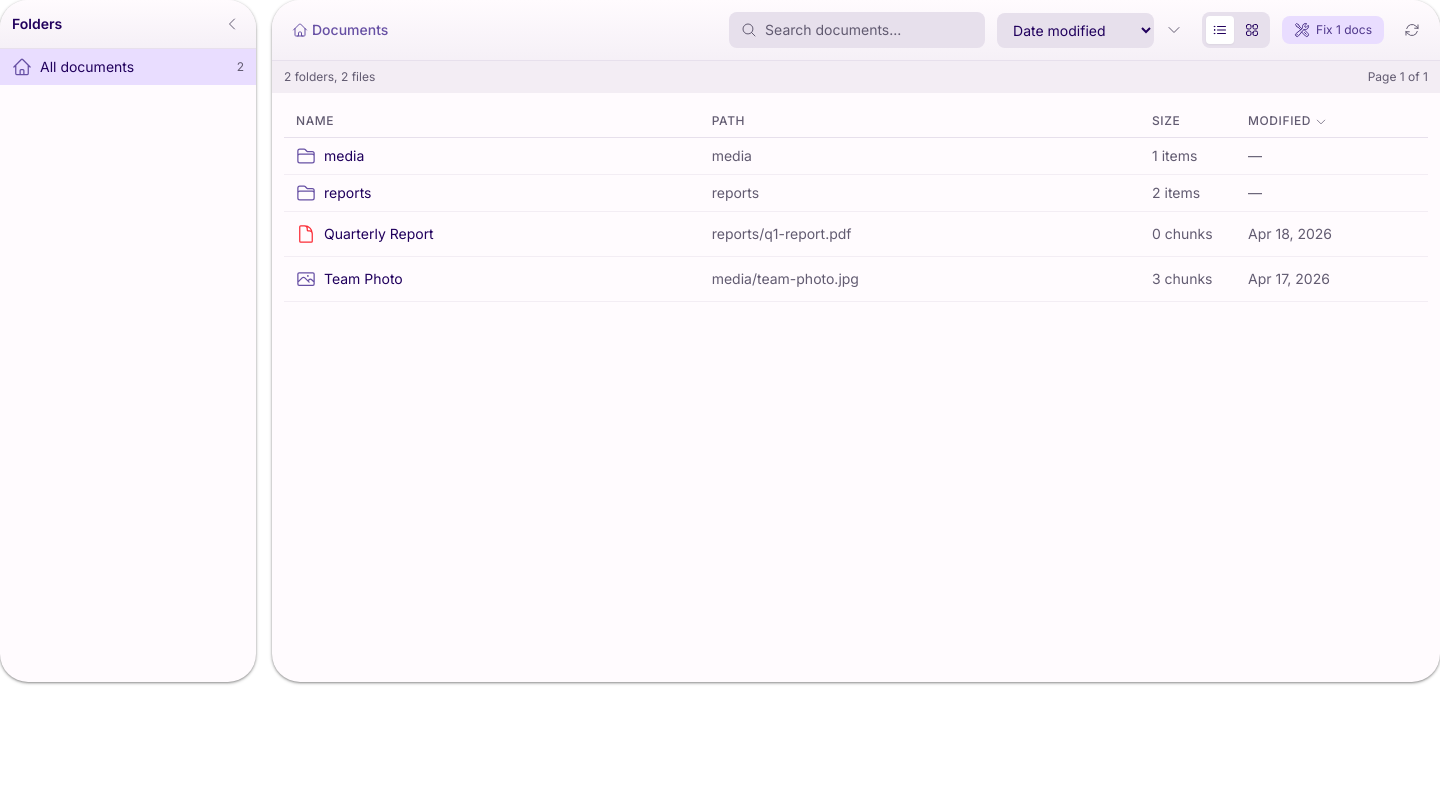
Test case: DocumentsPage › supports debounced search and clearing the search term
The image size is (1440, 810).
Expected: the text "Quarterly Report" is shown, [324, 224, 434, 244]
In the field with placeholder "Search documents...": (857,30) [729, 12, 985, 48], type "budget"
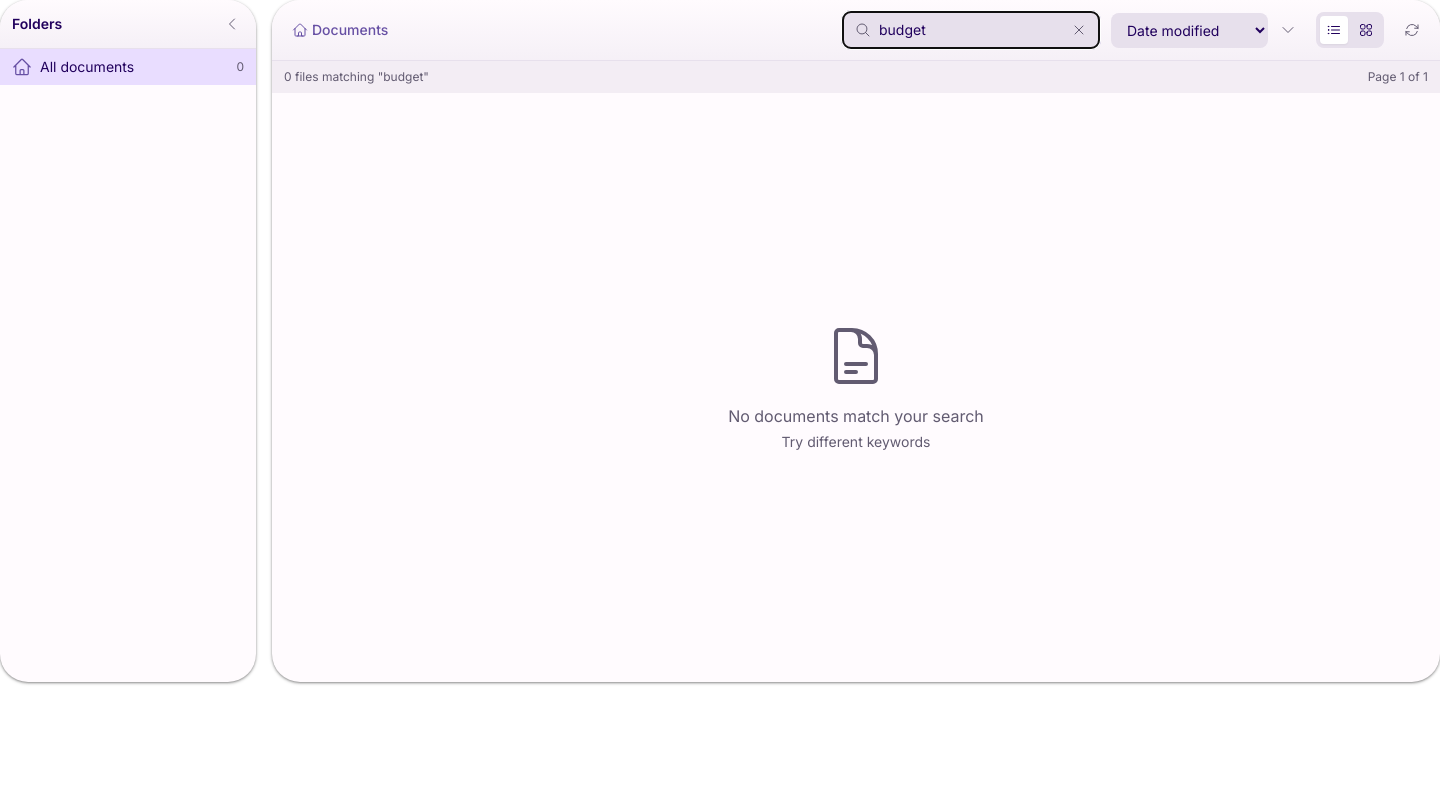
Now the text "No documents match your search" is shown, box [728, 404, 984, 428]
Now the text "Try different keywords" is shown, box [782, 432, 930, 452]
Now the 3rd button is shown
Click the 3rd button: (1079,30) [1067, 18, 1091, 42]
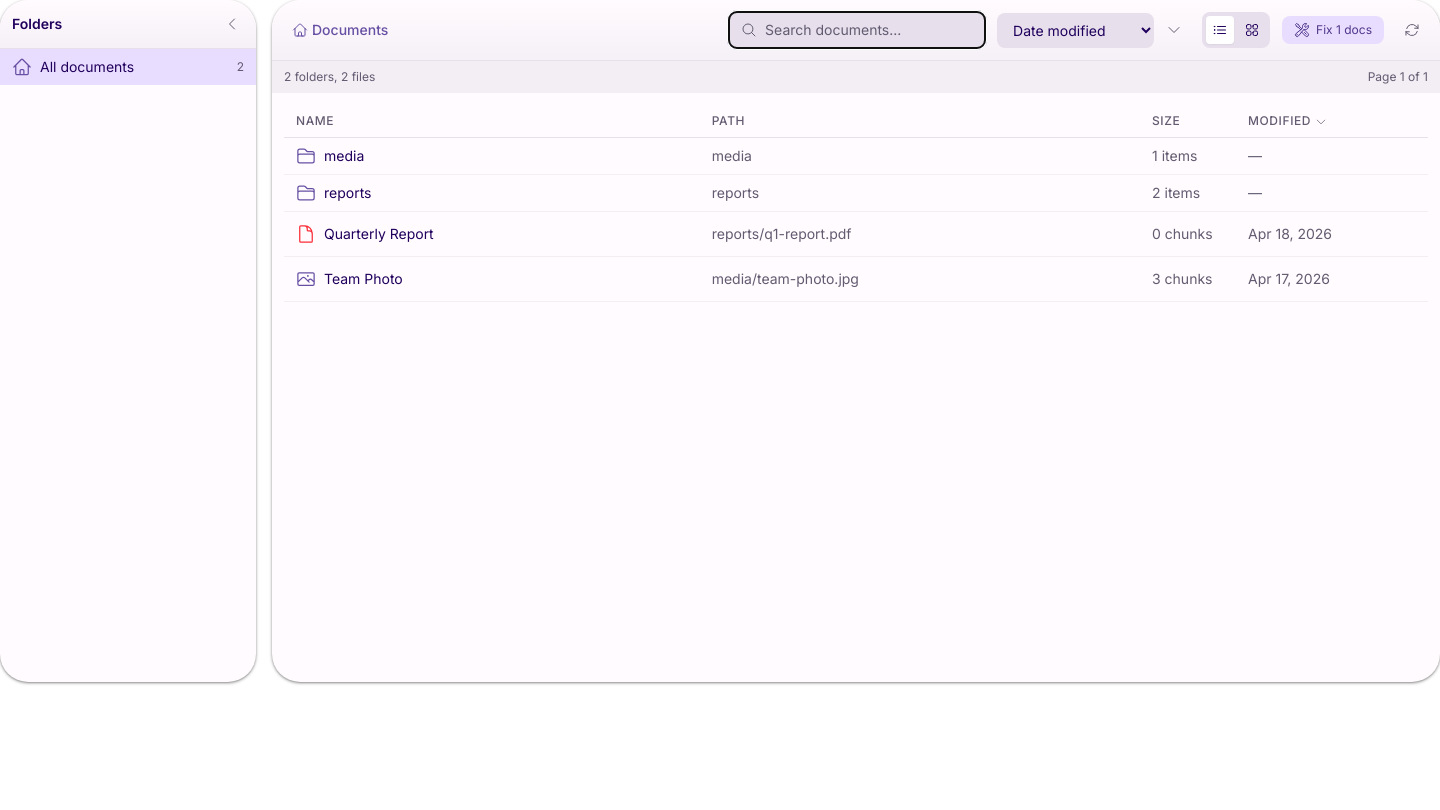
Now the text "Quarterly Report" is shown, box [324, 224, 434, 244]
